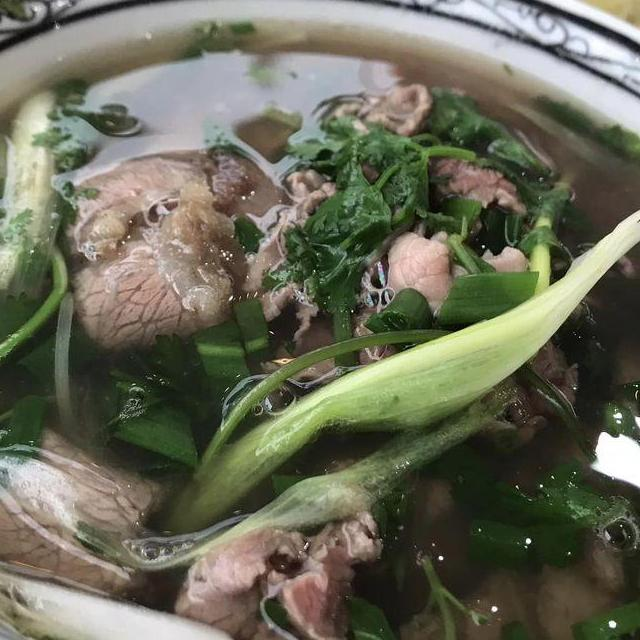thit bo: (238, 75, 535, 396), (52, 128, 241, 356), (0, 424, 162, 610), (173, 512, 385, 640), (370, 220, 529, 327)
